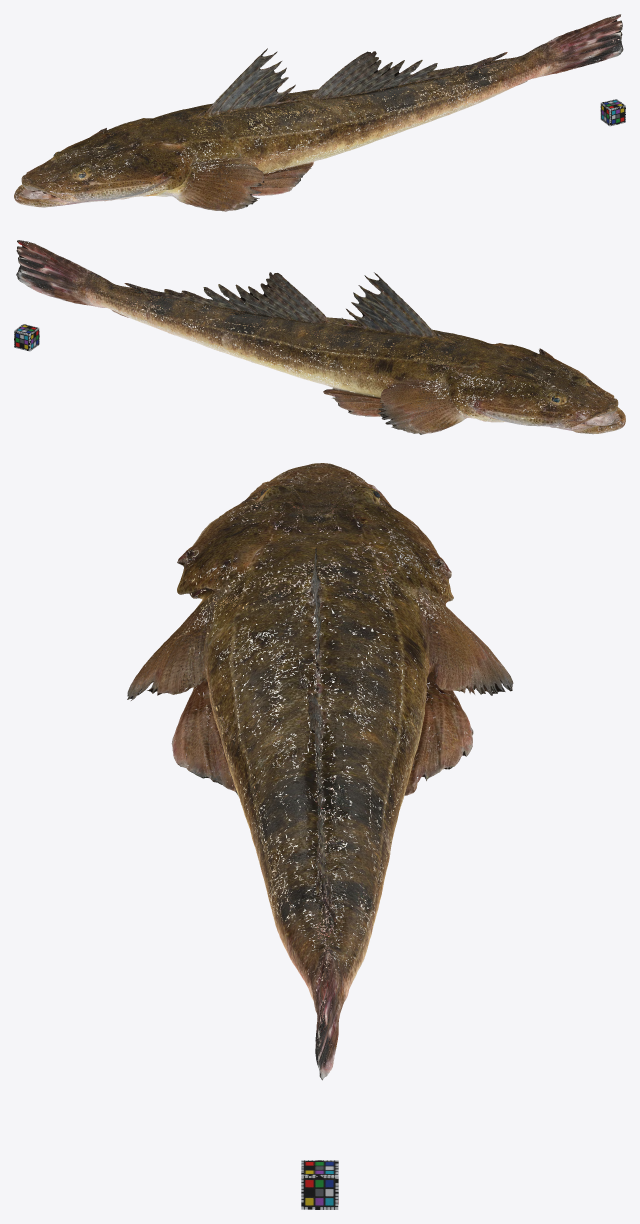
Rendered from scan_flathead.glb.
The picture shows the model from 3 angles, top to bottom: view 1: azimuth 30°, elevation 25°; view 2: azimuth 150°, elevation 25°; view 3: azimuth 270°, elevation 25°; orthographic projection. The views are drawn at different scales.
Visible parts, largest first — view 1: Object_13, Object_21, Object_6, Object_4; view 2: Object_13, Object_6, Object_21, Object_4; view 3: Object_6, Object_13, Object_21, Object_4.
Part boxes in pixels (box(x1,y1,x2,y2)): Object_13: box(15, 14, 623, 211); Object_21: box(14, 15, 622, 211); Object_6: box(14, 16, 622, 210); Object_4: box(600, 99, 625, 126); Object_13: box(16, 240, 625, 434); Object_6: box(17, 240, 623, 434); Object_21: box(17, 240, 625, 434); Object_4: box(14, 324, 39, 351); Object_6: box(127, 464, 512, 1078); Object_13: box(127, 464, 513, 1080); Object_21: box(127, 463, 512, 1076); Object_4: box(301, 1160, 338, 1209).
Size of the model in its own units: 22.39 by 5.56 by 6.17.
4 materials, 4 textured.
